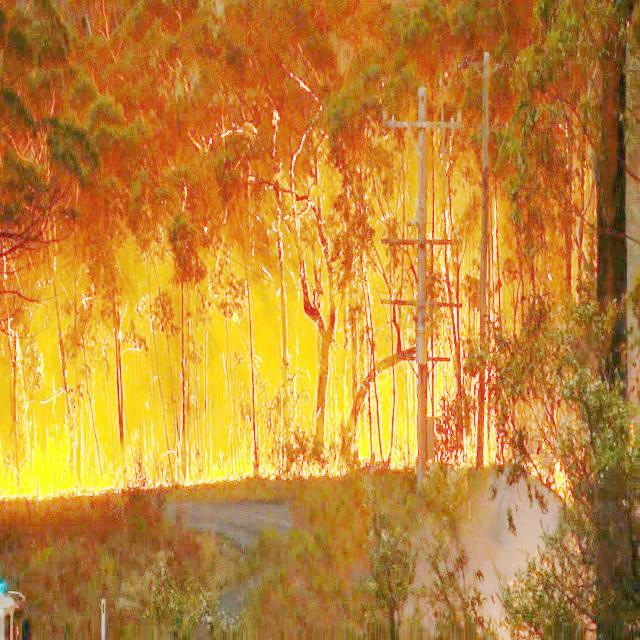api: (1, 426, 81, 497), (361, 377, 394, 473), (199, 449, 252, 488), (82, 446, 117, 498), (402, 373, 420, 468), (336, 380, 349, 439), (558, 455, 573, 495)
